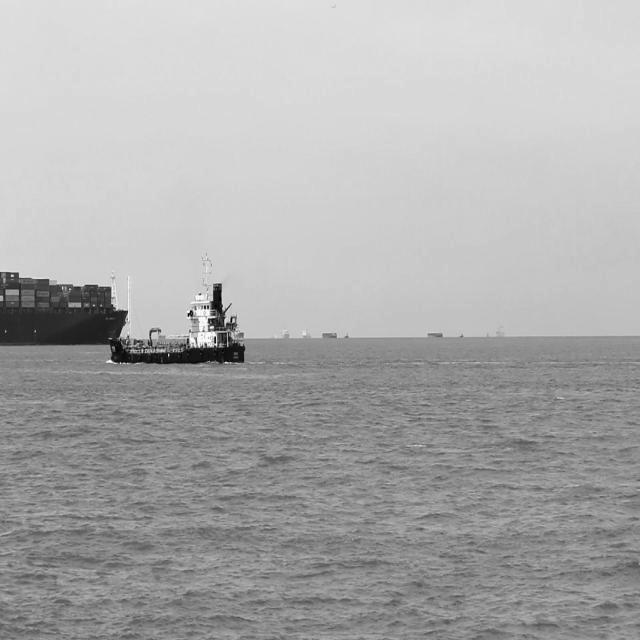ship: (104, 250, 249, 370), (0, 258, 128, 350), (320, 324, 338, 344), (426, 325, 446, 343), (494, 320, 510, 342), (300, 322, 314, 344), (280, 322, 292, 345)
